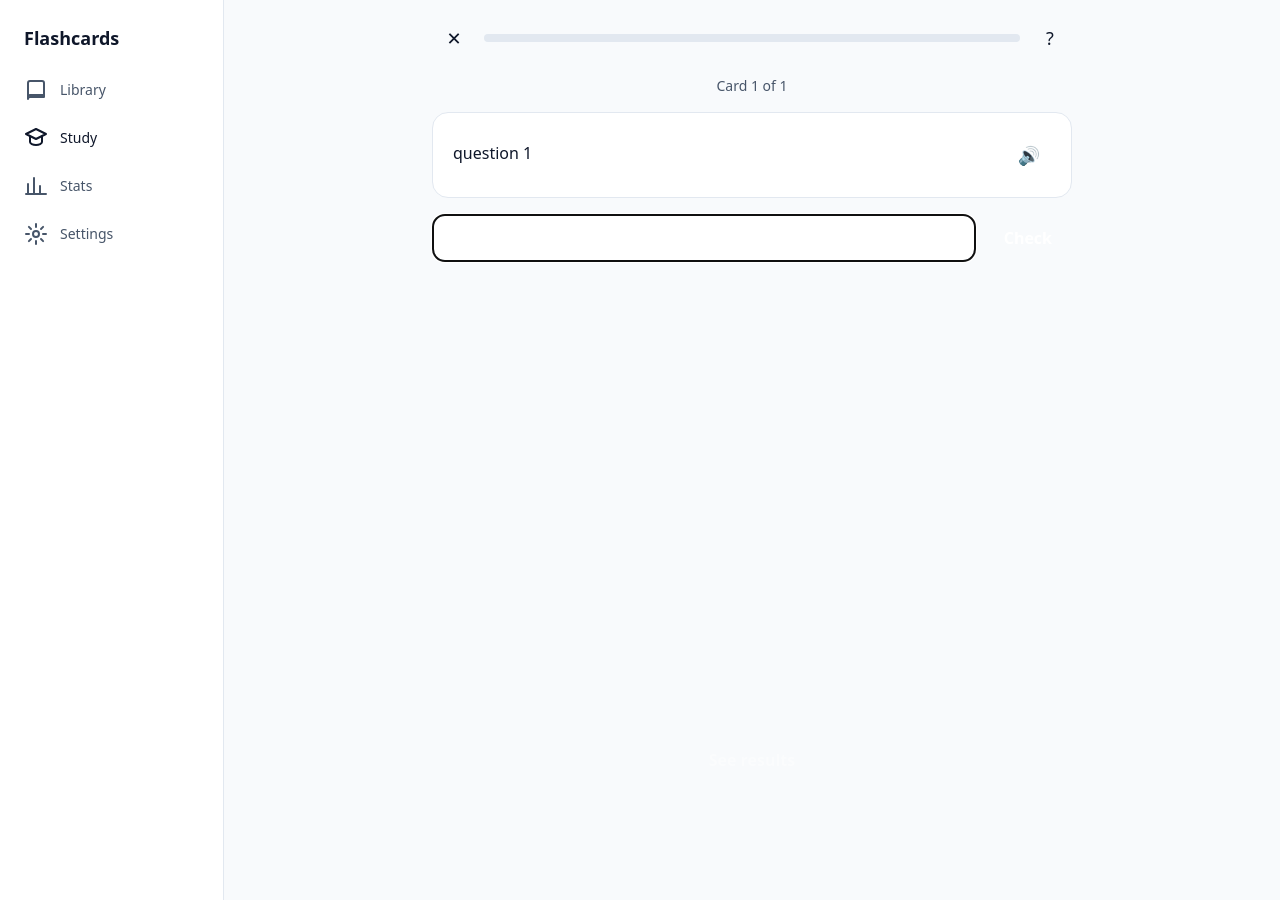
Test case: type mode › does not change FSRS scheduling
The width and height of the screenshot is (1280, 900).
Type "x" into the field named "Your answer".
click(704, 238); type("x")  # box [432, 214, 976, 262]
Then press Enter
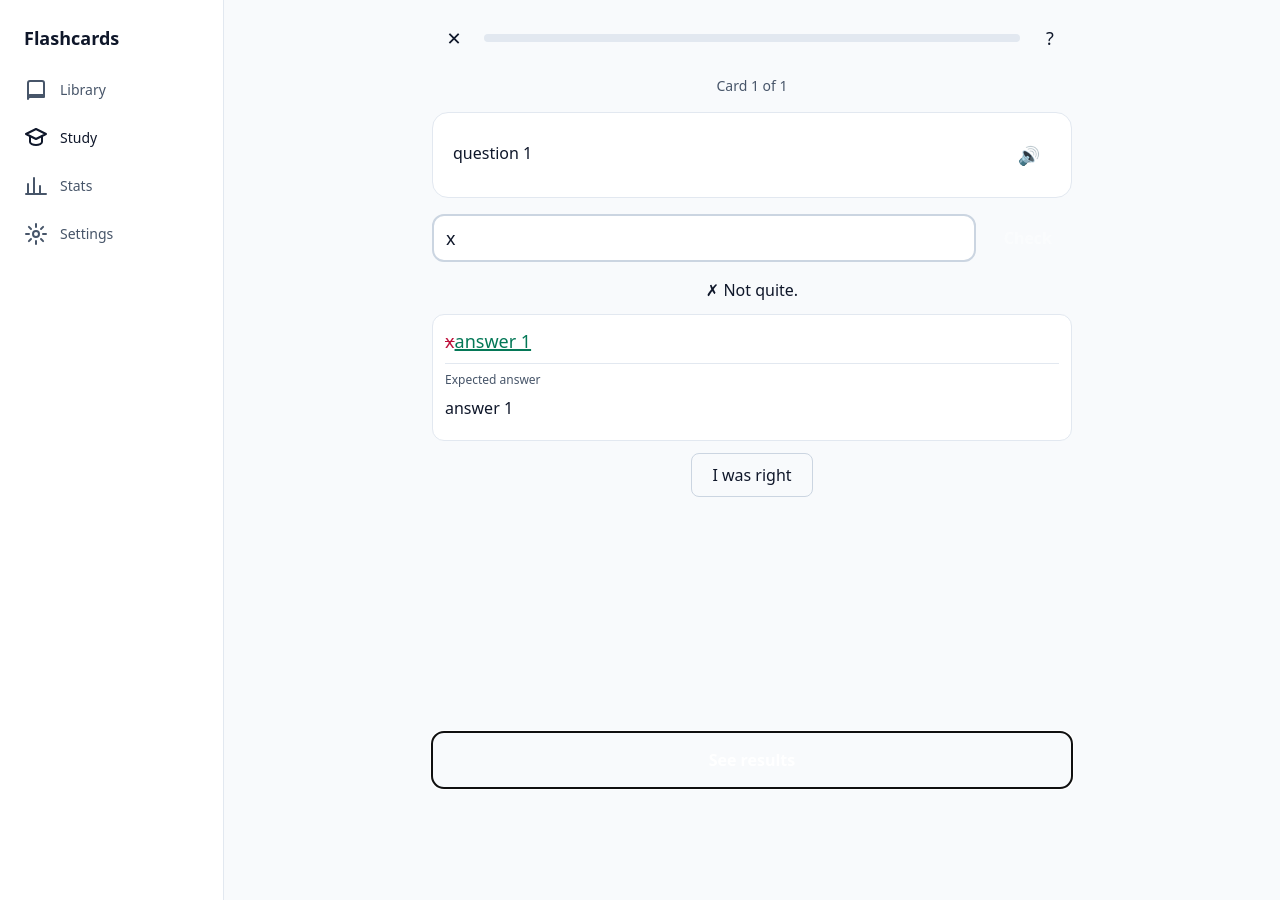
Expected: the text "Not quite." is shown, [723, 279, 798, 301]
